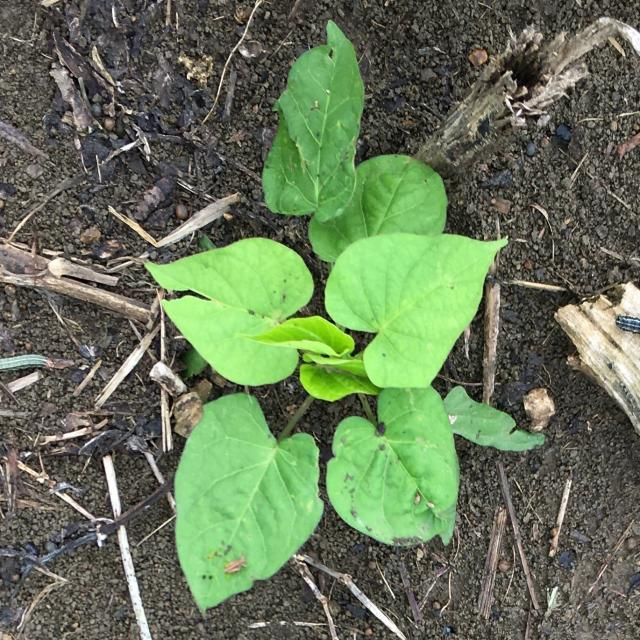MorningGlory: (143, 19, 548, 616)
